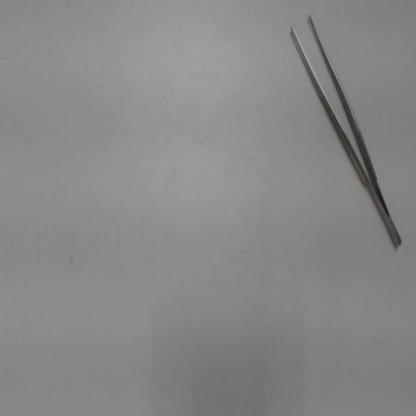Gillies Toothed Dissector: (281, 4, 408, 252)
